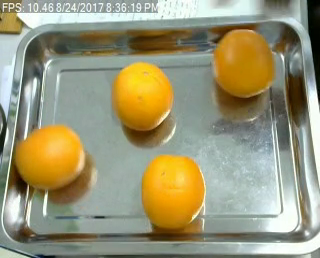Orange: (142, 153, 205, 229), (13, 124, 86, 188), (211, 28, 275, 99), (112, 60, 171, 130)
